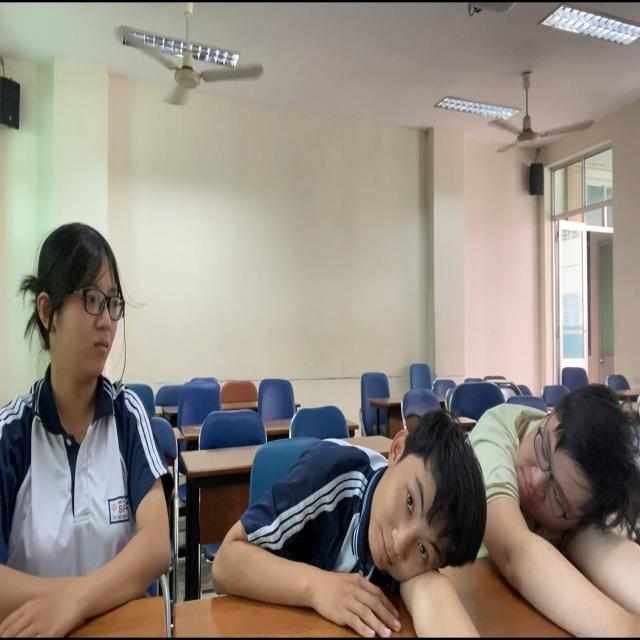sleep: (232, 407, 492, 640), (473, 379, 640, 609)
